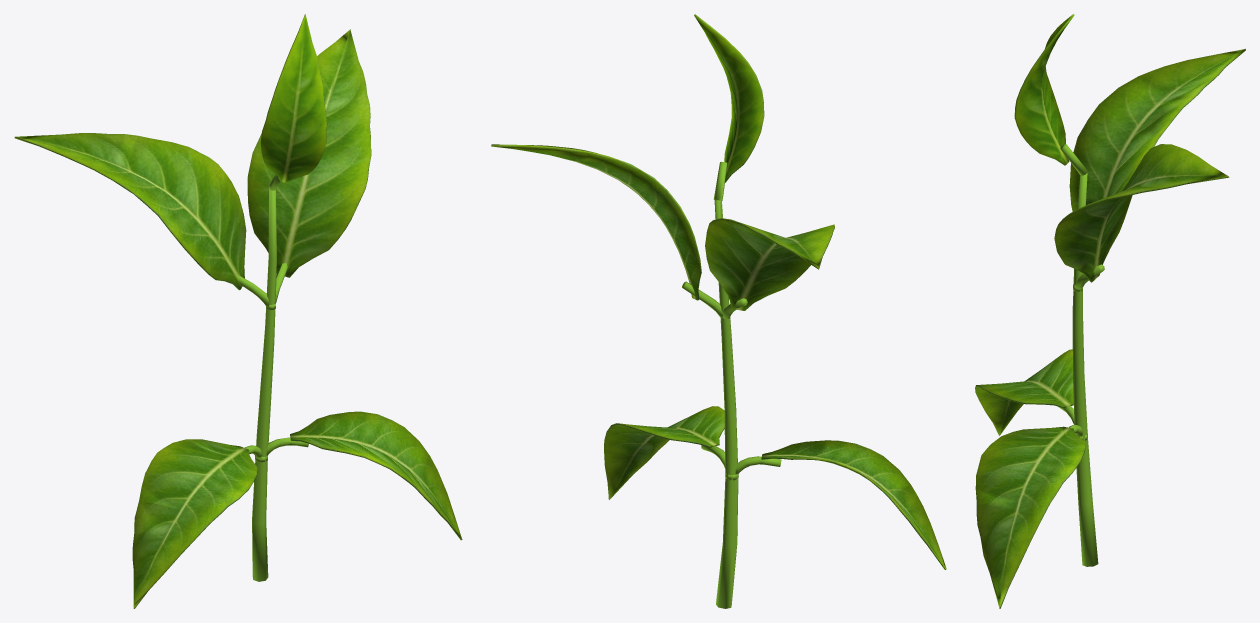
File: NP_WaterSpinach_Young_LOD1.fbx
3 renders of one model, left to right at view 1: azimuth 30°, elevation 25°; view 2: azimuth 150°, elevation 25°; view 3: azimuth 270°, elevation 25°, orthographic. The views are drawn at different scales.
Visible parts, largest first — view 1: NP_WaterSpinach_Young; view 2: NP_WaterSpinach_Young; view 3: NP_WaterSpinach_Young.
Boxes of the visible parts, bbox=[...] form: NP_WaterSpinach_Young: bbox=[14, 14, 462, 608]; NP_WaterSpinach_Young: bbox=[491, 14, 946, 608]; NP_WaterSpinach_Young: bbox=[975, 14, 1245, 608].
Bounding box in the file's own units: 35.24 × 57.27 × 24.72.
